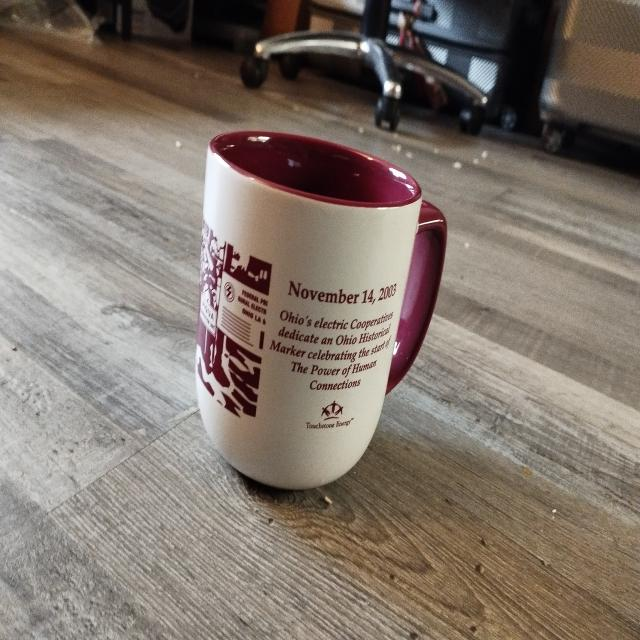Cup: (188, 105, 468, 511)
